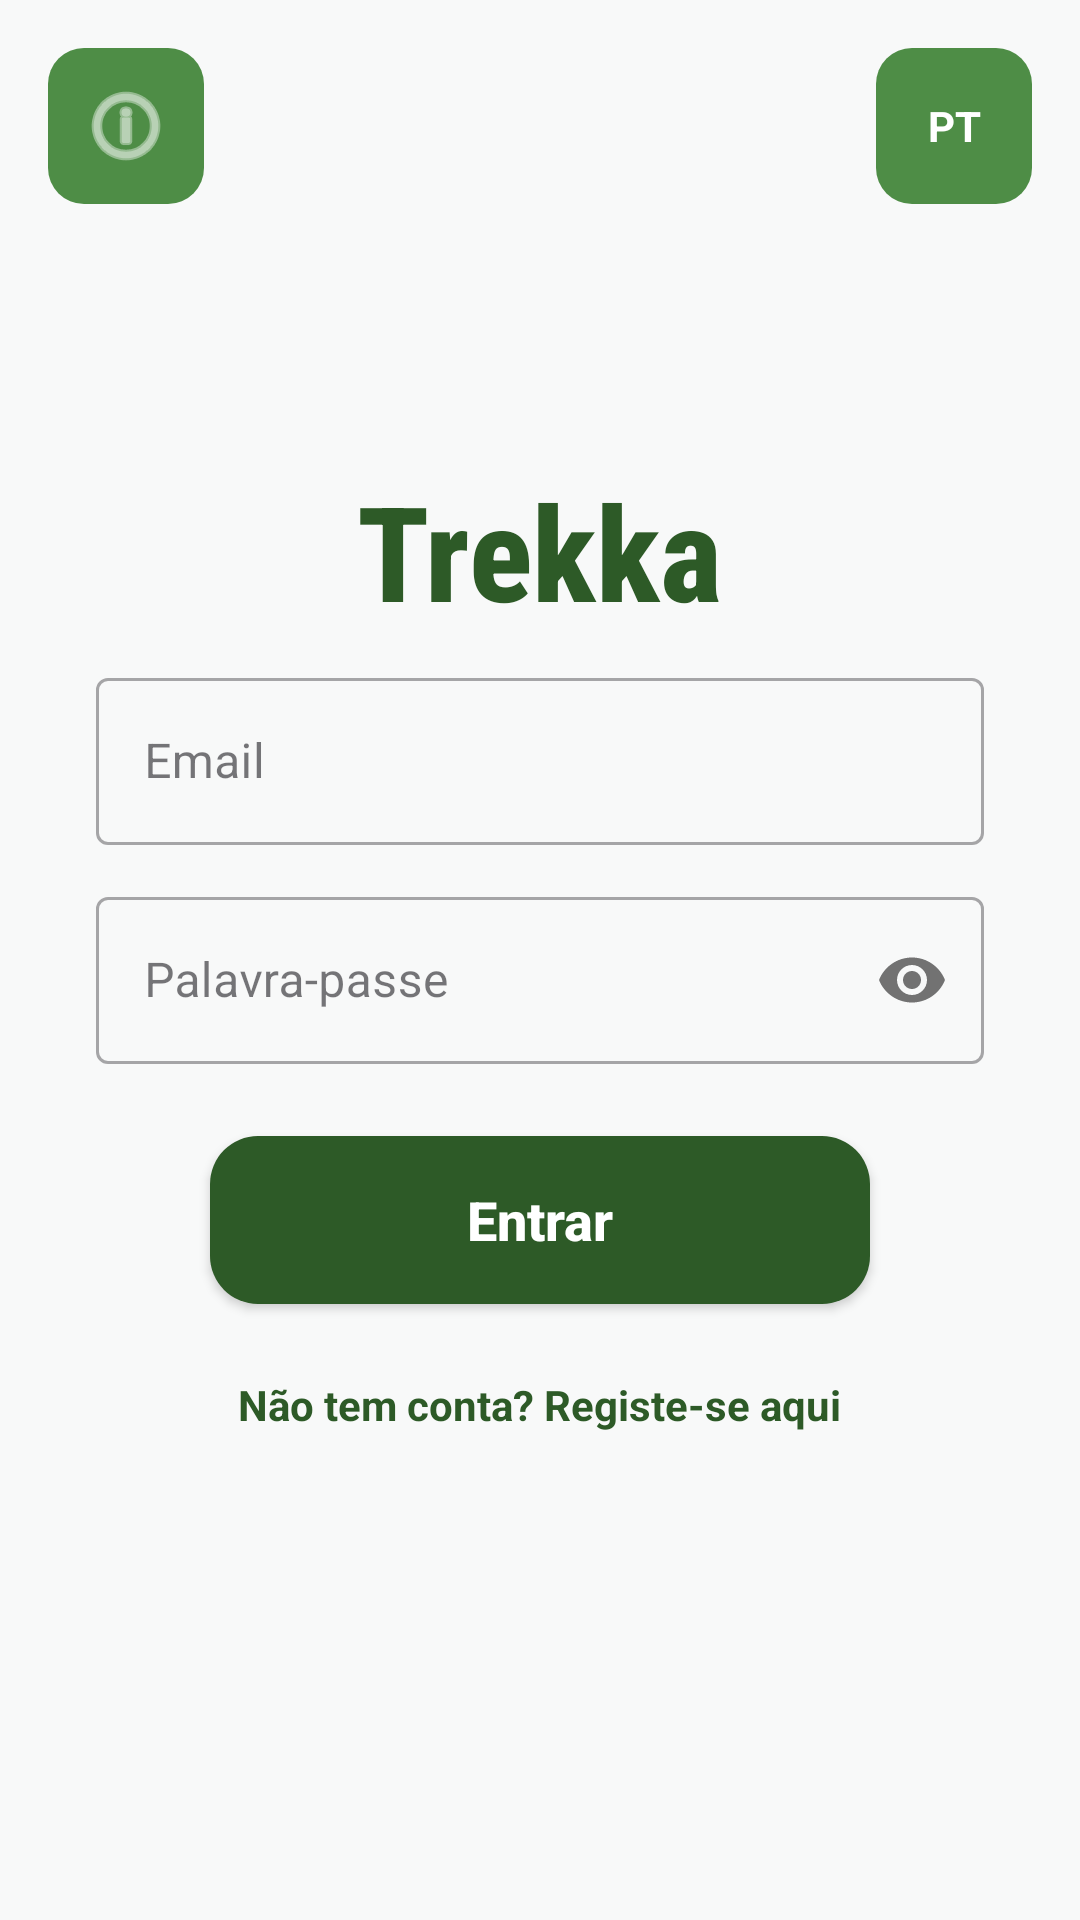

Locate icon controls on the screen. Image size 1080 × 1920, boxes as (x1, y1, x2, y2).
Sobre a aplicação: (48, 48, 204, 204)
